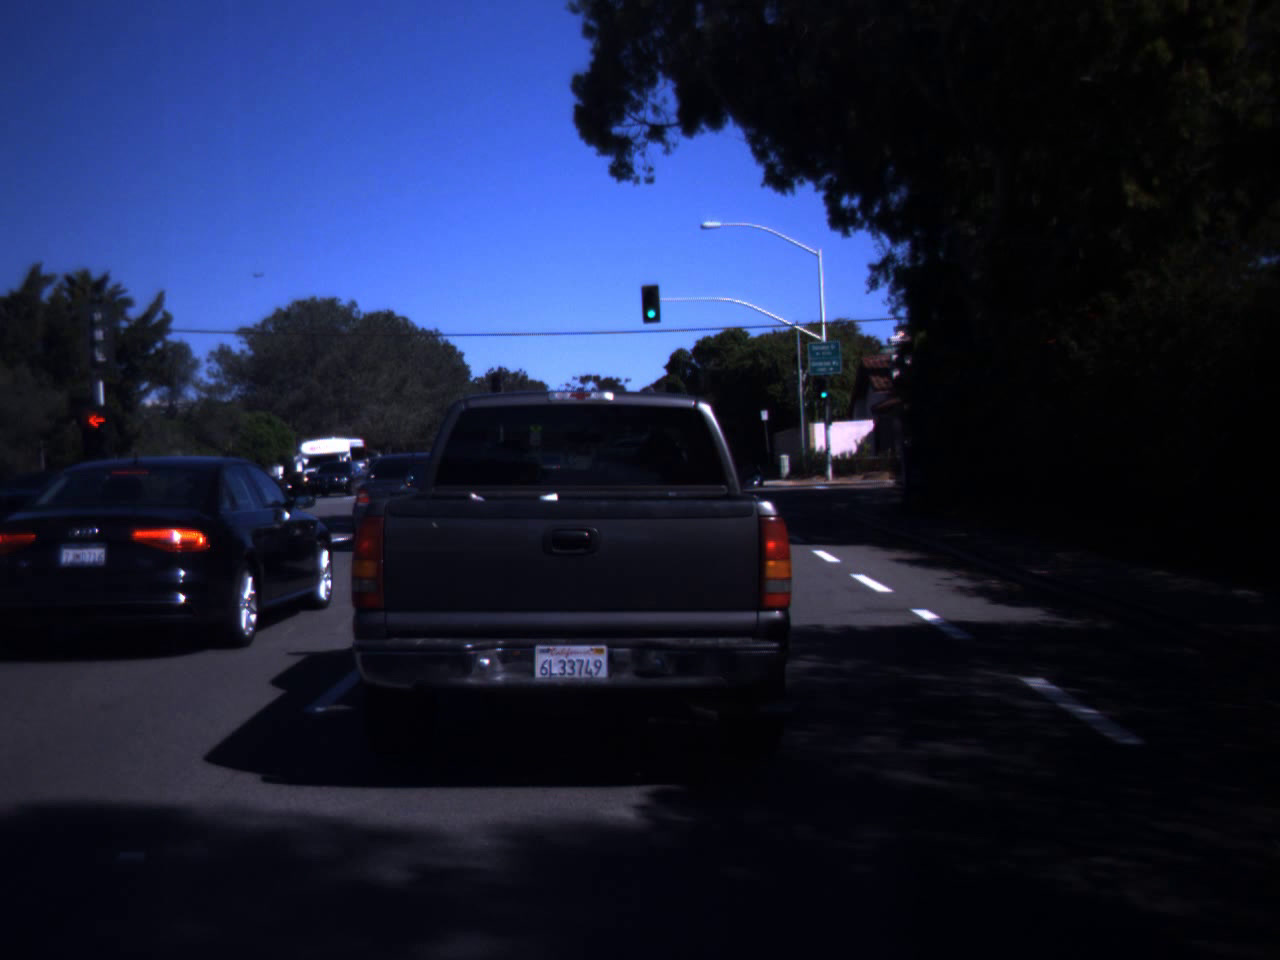go: (641, 291, 662, 321), (817, 380, 829, 400)
stop: (77, 414, 116, 450)
